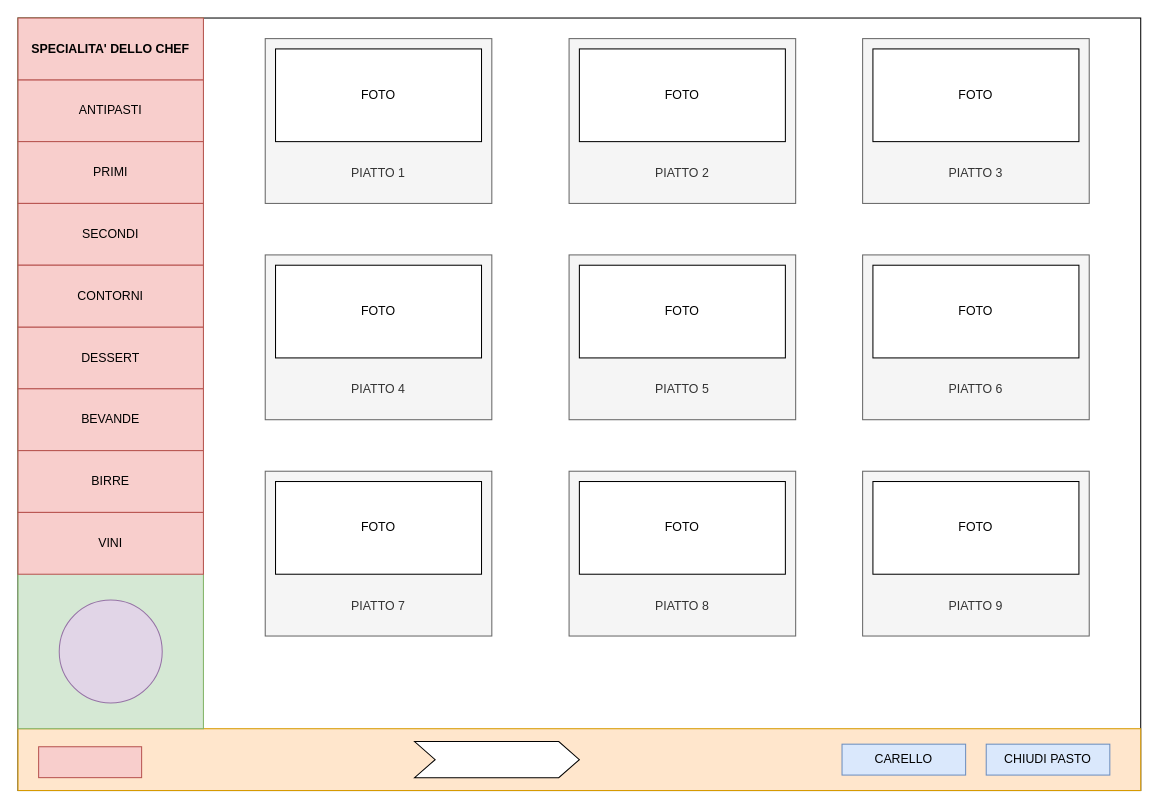
Image size: 1159x809. Some labels were removed from this diagram. Each missing label, with the centre of its shape:
CAMERIERE: point 110,651
LOGOUT: point 90,762
NOME TAVOLO: point 496,759
